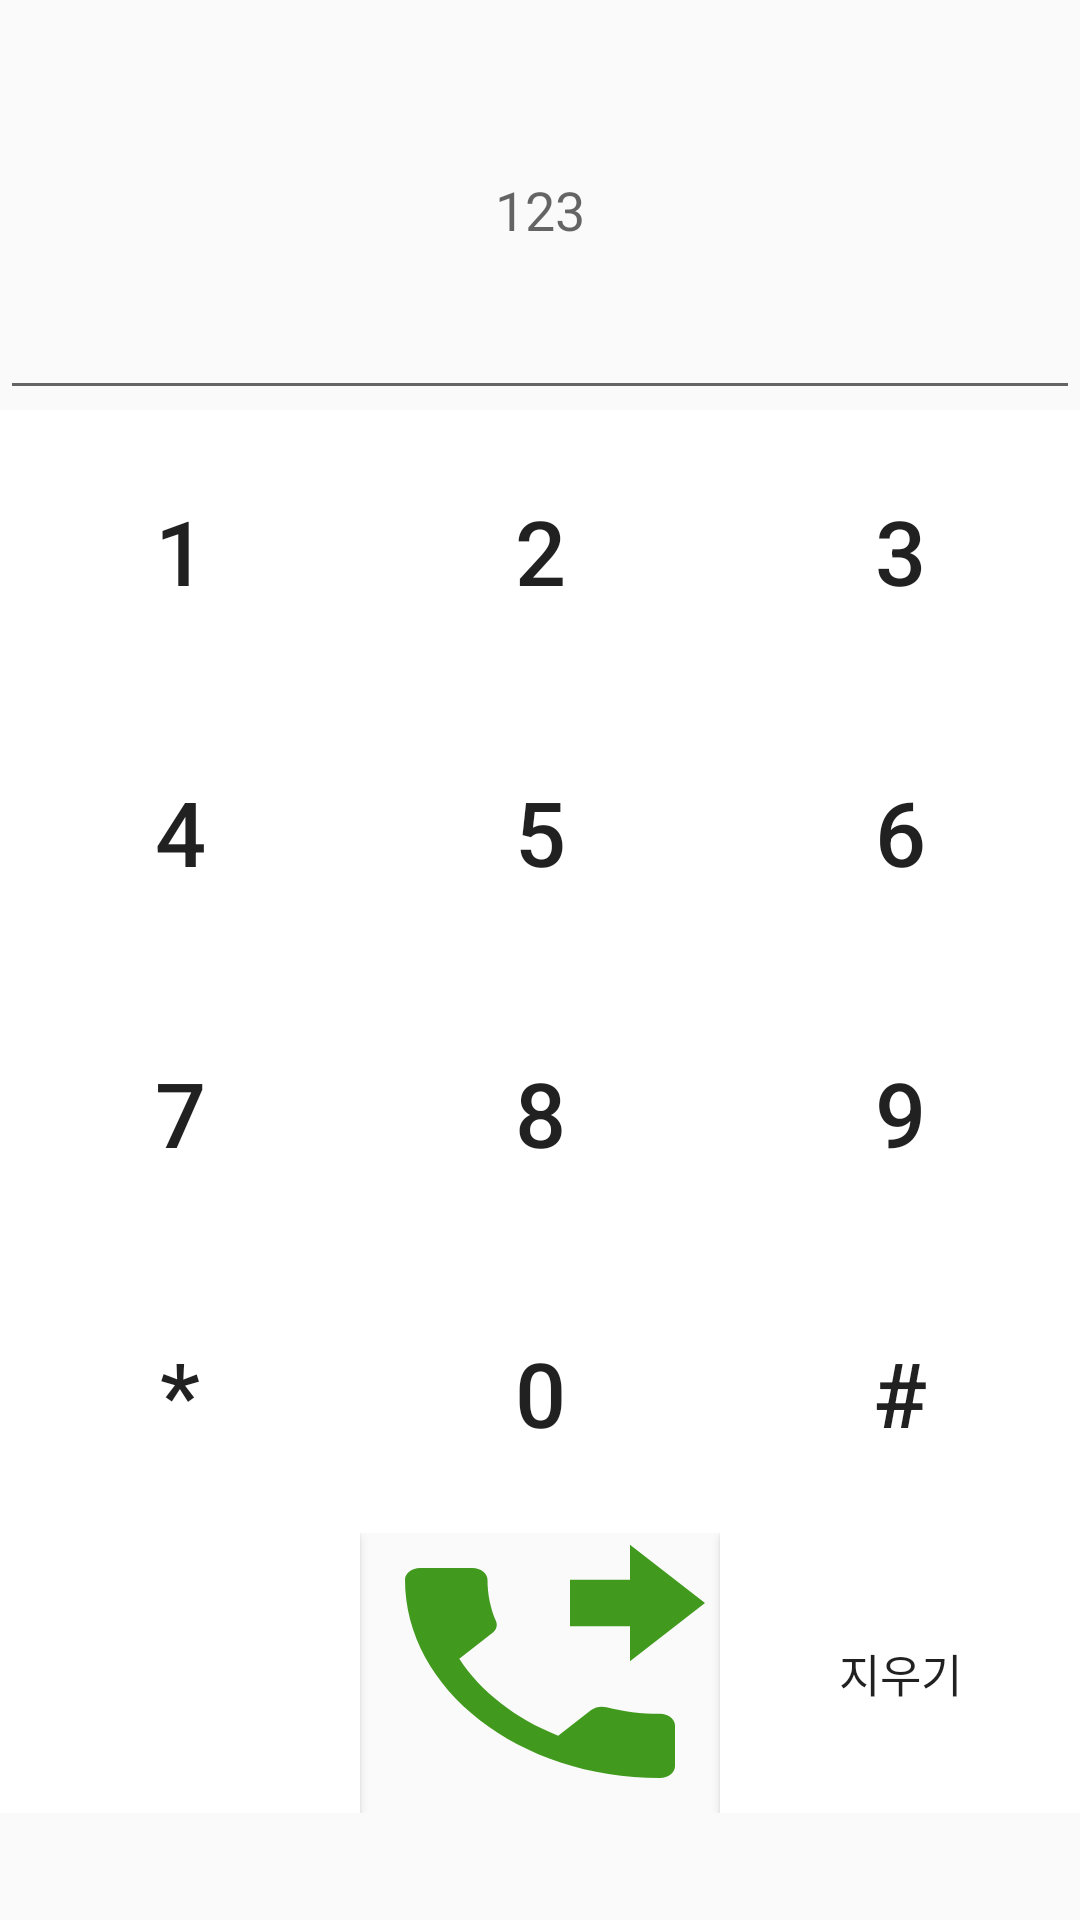

Screen size 1080 × 1920. Icon name, then its box in pixels as (x1, y1, x2, y2):
phone forwarded: (405, 1545, 705, 1778)
